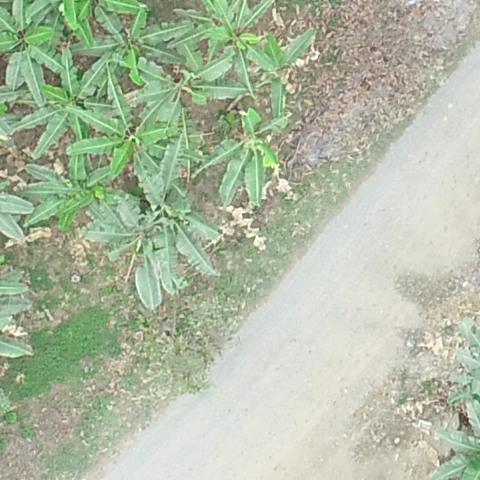Banana-plant: (114, 159, 219, 299), (17, 53, 111, 154), (79, 89, 174, 178), (82, 12, 186, 78), (208, 114, 286, 199), (26, 157, 109, 233), (0, 1, 60, 98), (244, 33, 314, 113), (164, 51, 241, 111), (190, 0, 277, 49)
